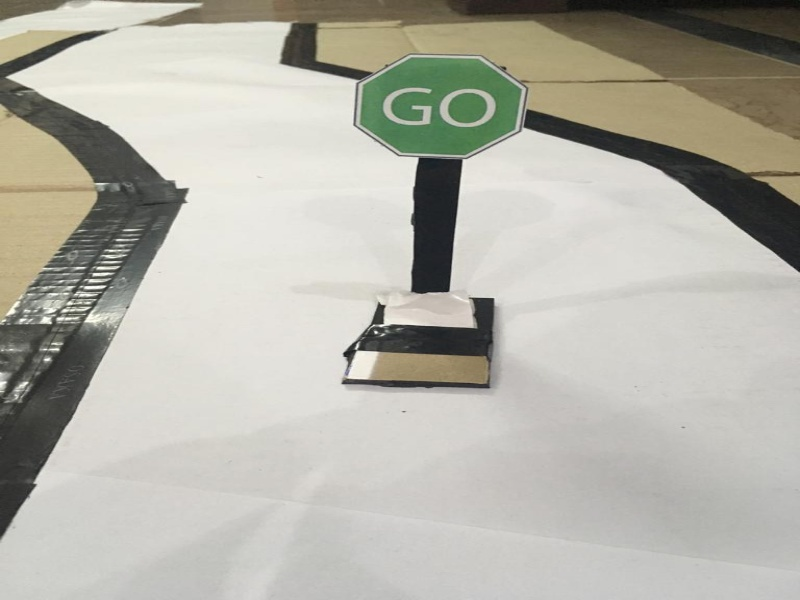Go: (349, 41, 530, 163)
